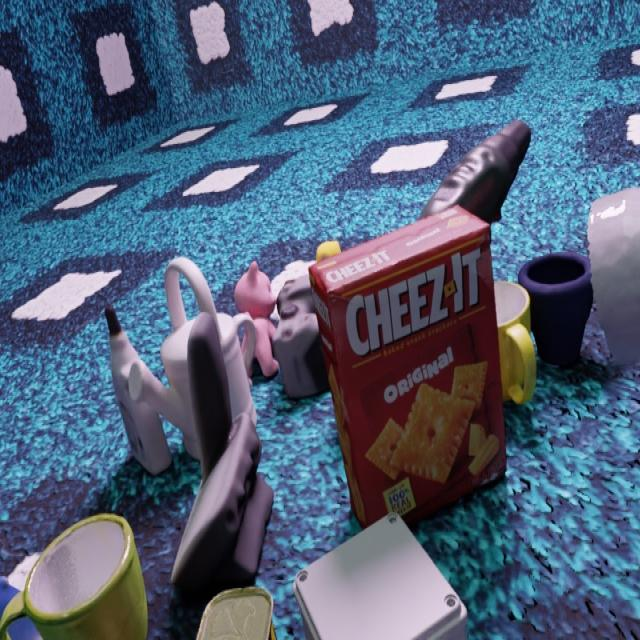Other Objects: (309, 205, 504, 525), (171, 316, 273, 596), (0, 513, 147, 639), (518, 252, 592, 367), (494, 281, 536, 404), (234, 261, 278, 376), (196, 587, 275, 639)
